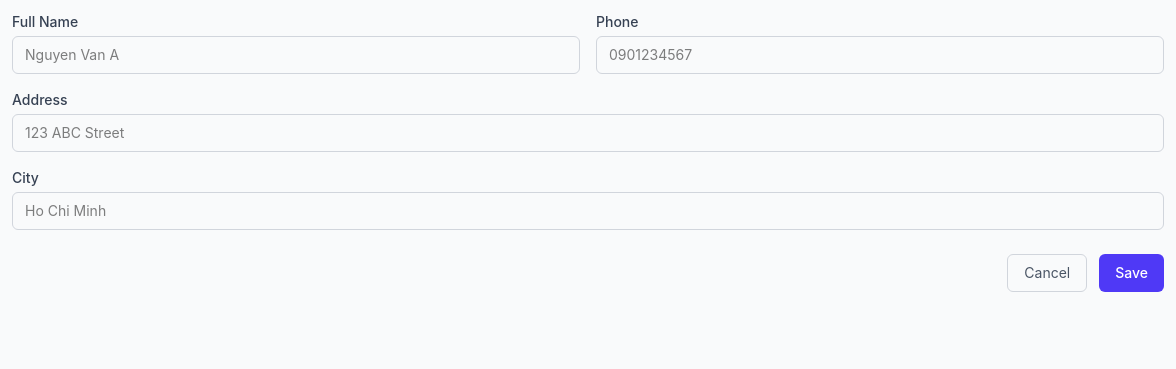
Test case: AddressForm › should show validation errors when submitted empty
Click the button "Save" at x=1132, y=273, box [1099,254,1164,292]
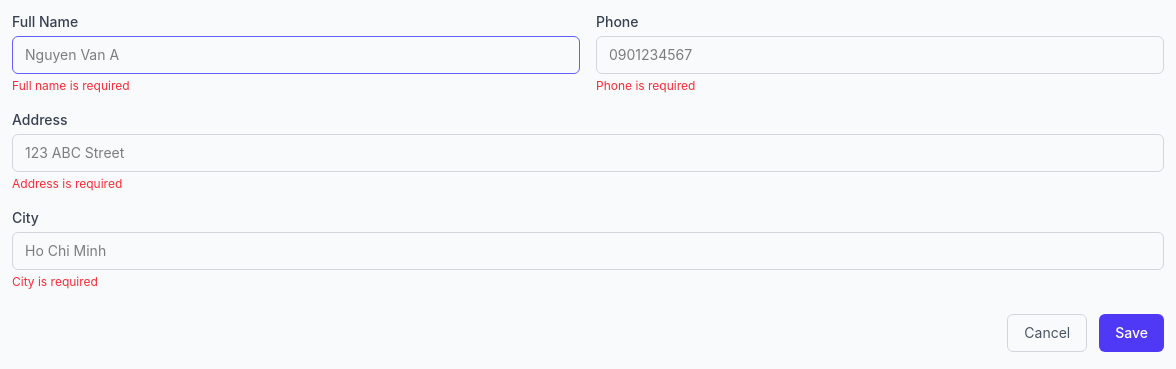
expect the text "Full name is required" is shown: met, box [12,78,130,93]
expect the text "Phone is required" is shown: met, box [596,78,695,93]
expect the text "Address is required" is shown: met, box [12,176,122,191]
